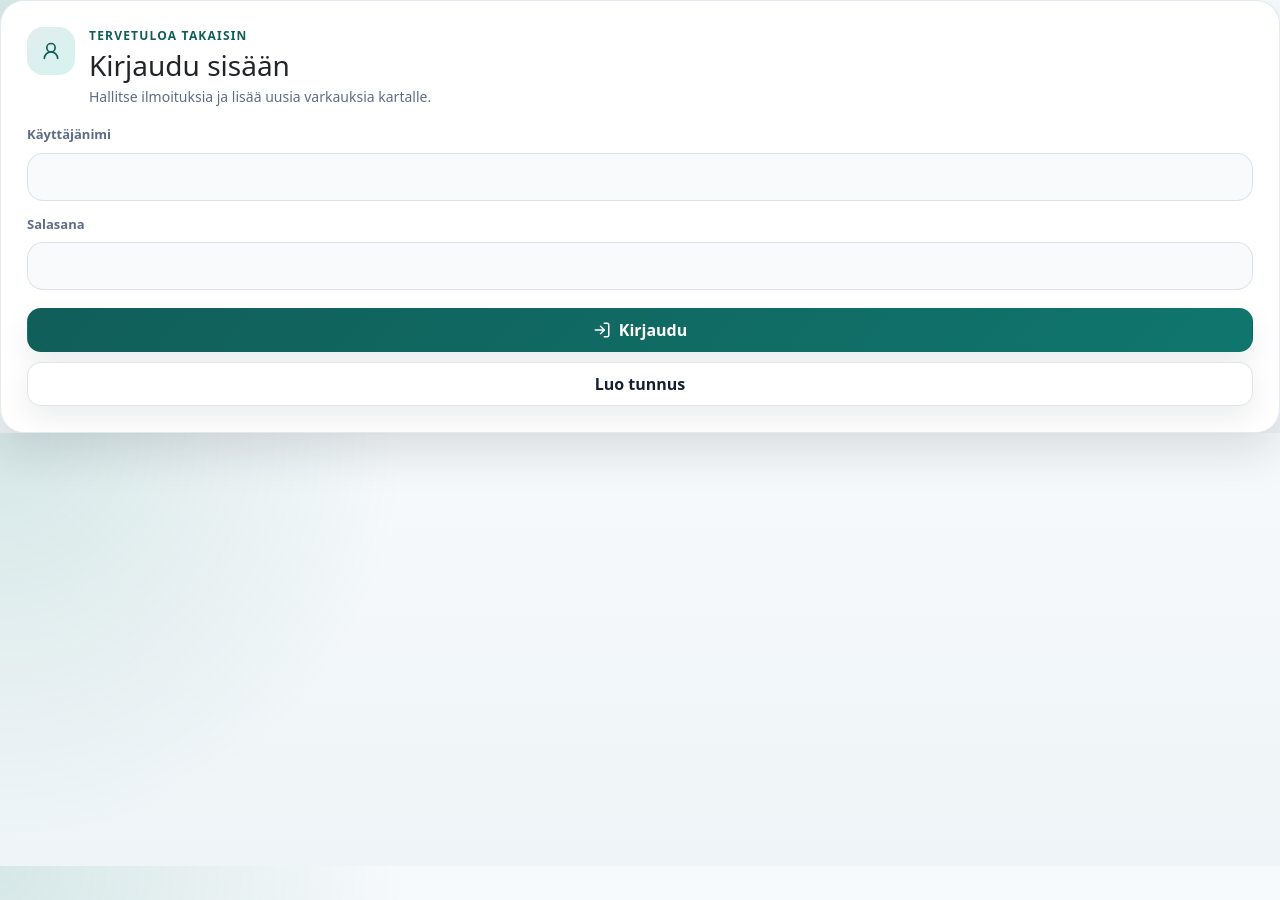
Test: LoginPage – virhetilanne › näyttää virheilmoituksen kun kirjautuminen epäonnistuu
Type "testikäyttäjä" into the field at [640, 177], box [27, 153, 1253, 201]
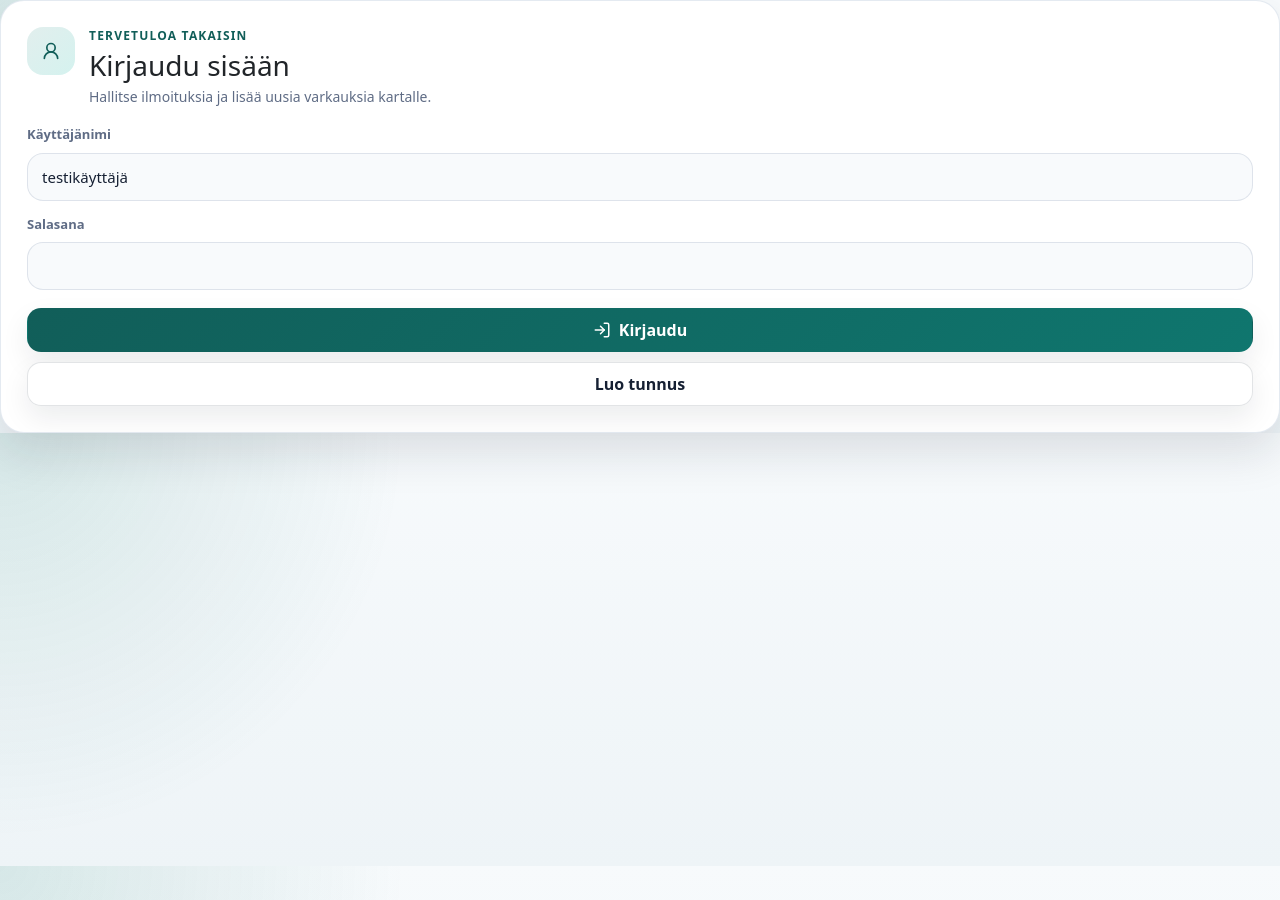
Type "väärä" into the password field labelled "Salasana" at [640, 266], box [27, 242, 1253, 290]
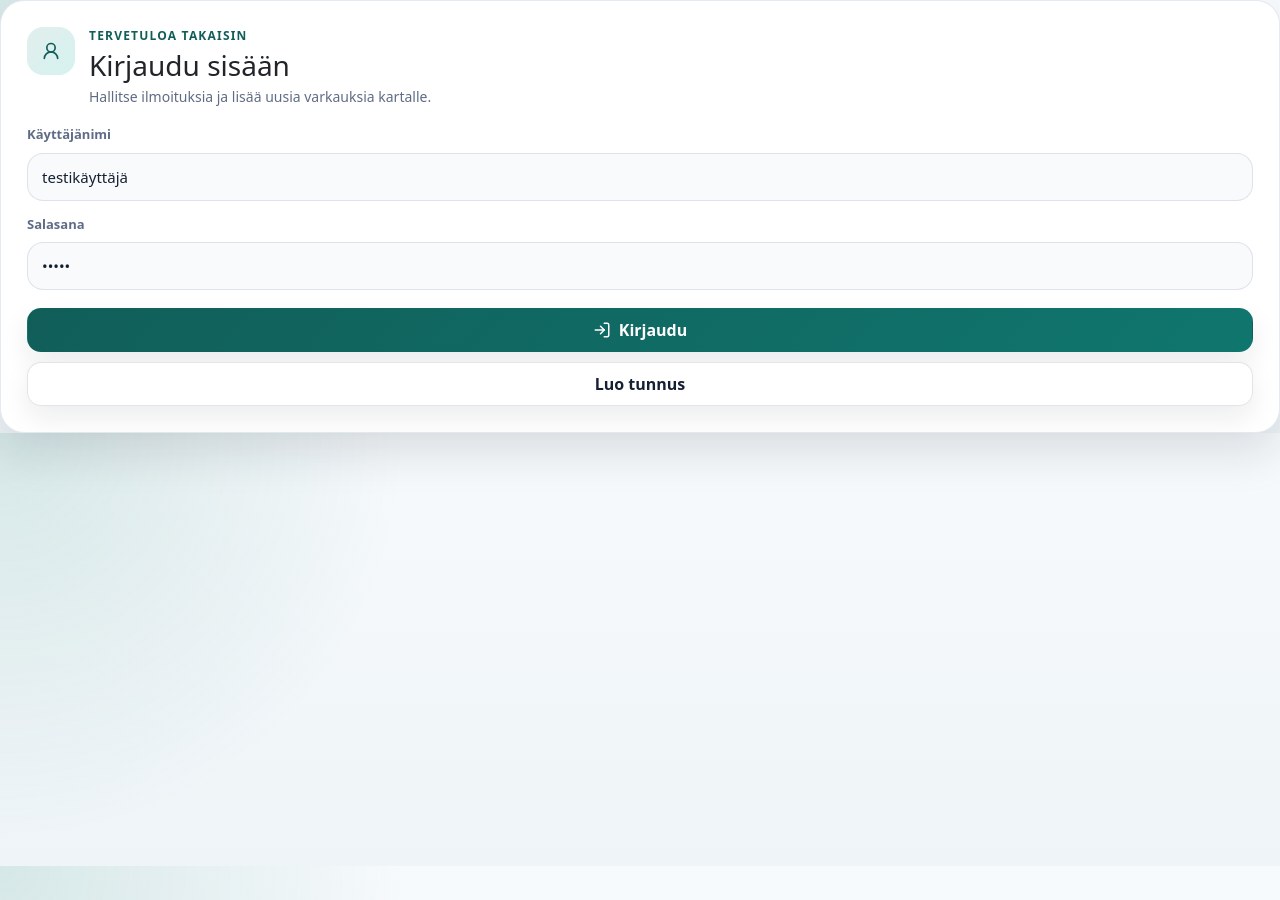
Click the button "Kirjaudu" at [640, 330], box [27, 308, 1253, 352]
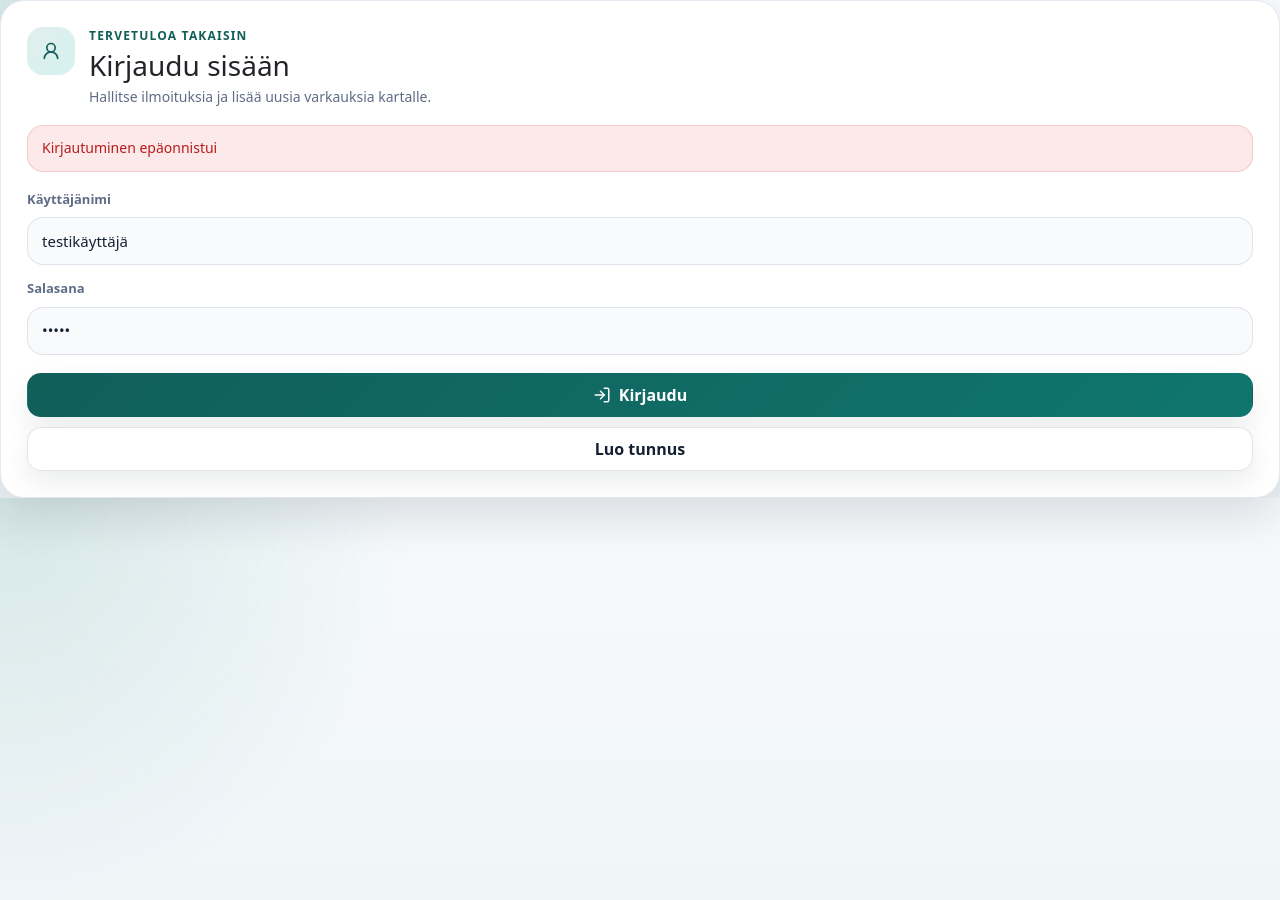
Expected: the text "Kirjautuminen epäonnistui" is shown, [27, 125, 1253, 172]
